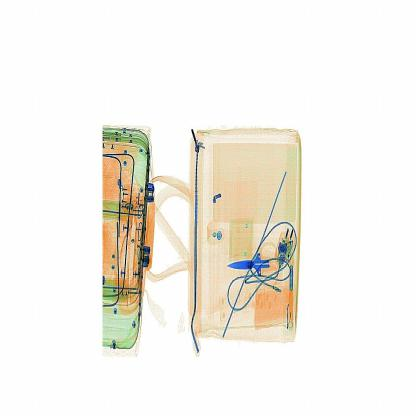gun: (227, 233, 292, 293)
